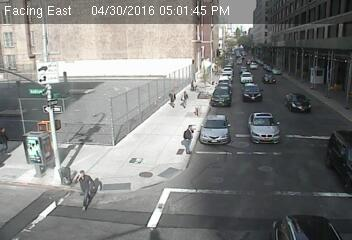neg: (76, 107, 101, 141), (93, 107, 113, 133), (118, 112, 136, 136), (288, 105, 305, 128), (244, 129, 258, 149)
pos: (68, 166, 105, 215), (172, 118, 204, 161), (162, 85, 181, 110), (177, 88, 191, 107)
